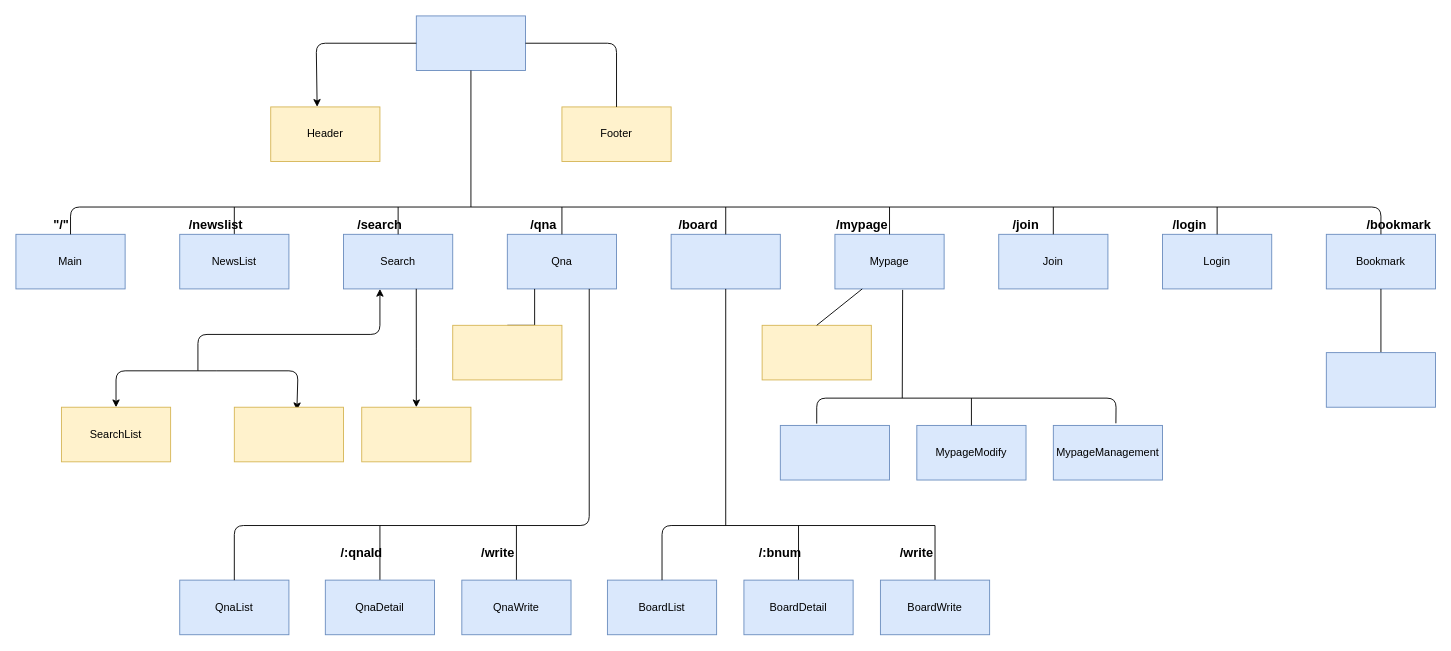
Some shapes in this 1451 by 651 pixel diagram are drawn without their labels. The shapes that lost their labels are listed below. From the top down, each one's box as (x1, y1, x2, y2) in pixels, then its label:
(415, 15, 526, 71): App
(670, 233, 780, 289): Board
(452, 324, 562, 380): QnaNav
(761, 324, 871, 380): MypageNav
(1325, 352, 1436, 407): BookmarkList
(233, 406, 344, 462): SearchDetail
(361, 406, 471, 462): GoogleMap
(779, 425, 890, 480): MypageInfo
